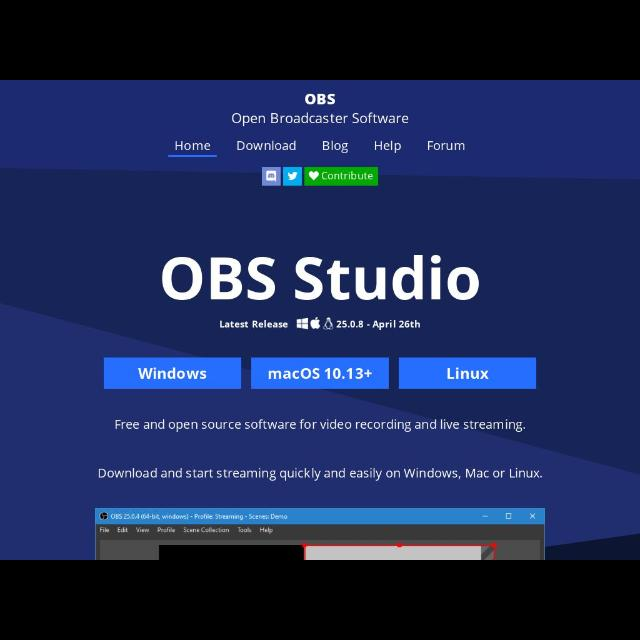icon: (294, 318, 308, 329), (309, 318, 321, 330), (308, 170, 320, 182), (323, 316, 333, 330)
image: (96, 508, 544, 558), (262, 167, 280, 185), (283, 166, 301, 184)
multitab: (162, 134, 486, 160)
text: (156, 243, 480, 304), (97, 468, 541, 482), (116, 420, 524, 432), (230, 108, 412, 125), (233, 138, 299, 154), (296, 89, 342, 108), (170, 138, 212, 156), (216, 320, 288, 330), (334, 321, 422, 329), (426, 138, 466, 154), (372, 138, 406, 156), (320, 139, 350, 153)
textbutton: (250, 357, 390, 388), (399, 358, 537, 389), (103, 358, 241, 388), (306, 168, 378, 184)
toolbar: (5, 83, 640, 183)
